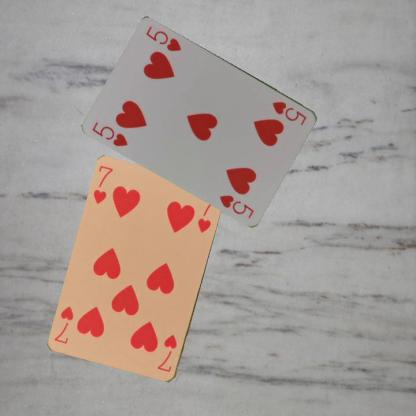5h: (90, 119, 130, 148), (270, 98, 308, 127)
7h: (154, 332, 179, 374), (91, 163, 114, 206)
